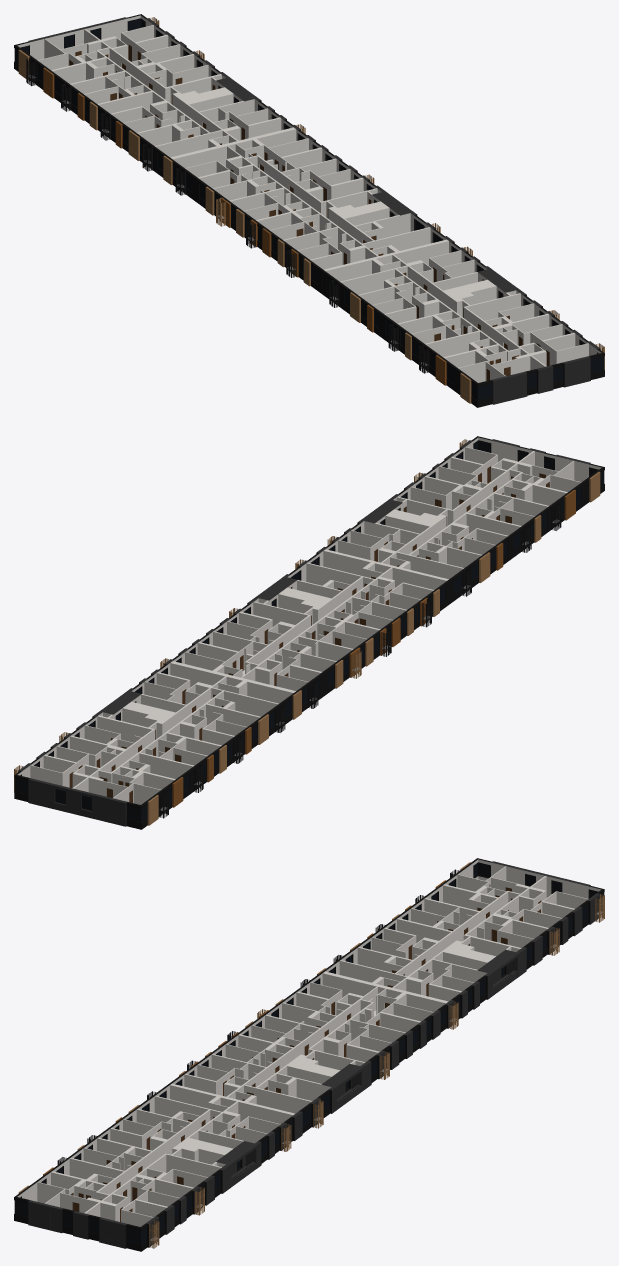
File: floor_12.FBX
The picture shows the model from 3 angles, top to bottom: view 1: azimuth 30°, elevation 25°; view 2: azimuth 150°, elevation 25°; view 3: azimuth 330°, elevation 25°; orthographic projection.
Visible parts, largest first — view 1: floor_12; view 2: floor_12; view 3: floor_12.
Boxes of the visible parts, x1,y1,x2,y2 form: floor_12: (14,14,604,407); floor_12: (14,436,604,829); floor_12: (14,858,604,1251).
Size of the model in its own units: 18.75 by 3 by 108.
